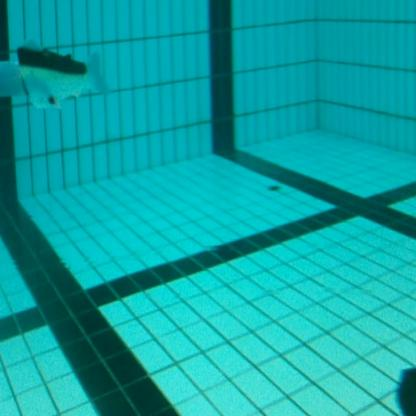tail: (15, 38, 116, 113)
